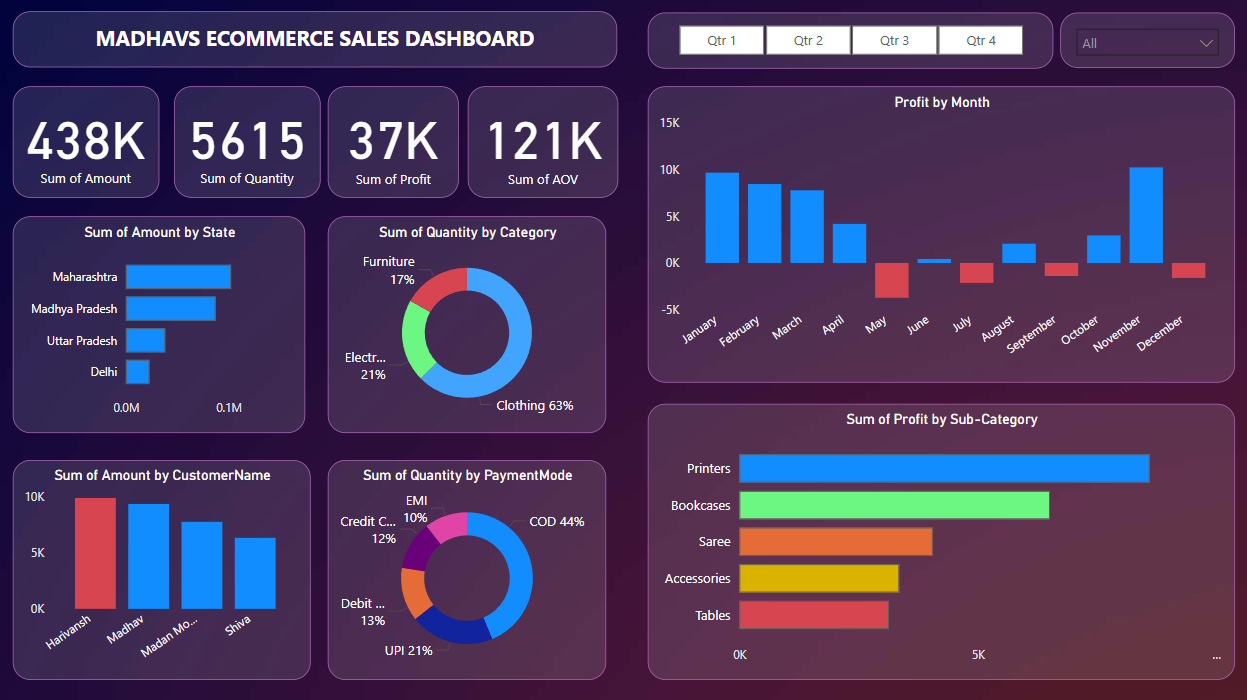

Layout of this report page (visuals, bound fields, positions):
{"tool":"powerbi","page":{"name":"Page 1","canvas":[1280,720],"ordinal":0},"visuals":[{"type":"textbox","box":[14.4,11.1,620,57.8],"z":0},{"type":"columnChart","title":"Profit by Month","fields":{"Category":["Orders.Order Date.Variation.Date Hierarchy.Month"],"Y":["Details.Profit"]},"box":[665,88.3,602.5,304.3],"z":1000},{"type":"barChart","fields":{"Category":["Details.Sub-Category"],"Y":["Details.Profit"]},"box":[665.6,414.4,602.2,283.3],"z":2000},{"type":"donutChart","fields":{"Category":["Details.Category"],"Y":["Details.Quantity"]},"box":[337.8,222.2,285.6,222.2],"z":3000},{"type":"donutChart","fields":{"Y":["Details.Quantity"],"Category":["Details.PaymentMode"]},"box":[337.8,472.2,285.6,225.6],"z":4000},{"type":"card","fields":{"Values":["Details.Amount"]},"box":[14.4,88.9,150,114.4],"z":5000},{"type":"card","fields":{"Values":["Details.Quantity"]},"box":[178.9,88.9,150,114.4],"z":6000},{"type":"card","fields":{"Values":["Details.Profit"]},"box":[337.8,88.9,134.4,114.4],"z":7000},{"type":"card","fields":{"Values":["Details.AOV"]},"box":[481.1,88.9,154.4,114.4],"z":8000},{"type":"barChart","fields":{"Category":["Orders.State"],"Y":["Details.Amount"]},"box":[14.4,222.2,300,222.2],"z":9000},{"type":"columnChart","fields":{"Category":["Orders.CustomerName"],"Y":["Details.Amount"]},"box":[14.7,472.4,305.5,225.8],"z":10000},{"type":"slicer","fields":{"Values":["Orders.Order Date.Variation.Date Hierarchy.Quarter"]},"box":[665,12.3,416,57.7],"z":11000},{"type":"slicer","fields":{"Values":["Orders.State"]},"box":[1088.3,12.3,179.1,56.4],"z":12000}]}

Visuals, with their boxes in screenshot pixels (x1, y1, x2, y2), scaled from the page's 1280x720 canvas onto the 1247x700 screenshot:
textbox: box=[14, 11, 618, 67]
"Profit by Month" columnChart: box=[648, 86, 1235, 382]
barChart - Details.Sub-Category x Details.Profit: box=[648, 403, 1235, 678]
donutChart - Details.Category x Details.Quantity: box=[329, 216, 607, 432]
donutChart - Details.Quantity x Details.PaymentMode: box=[329, 459, 607, 678]
card - Details.Amount: box=[14, 86, 160, 198]
card - Details.Quantity: box=[174, 86, 320, 198]
card - Details.Profit: box=[329, 86, 460, 198]
card - Details.AOV: box=[469, 86, 619, 198]
barChart - Orders.State x Details.Amount: box=[14, 216, 306, 432]
columnChart - Orders.CustomerName x Details.Amount: box=[14, 459, 312, 679]
slicer - Orders.Order Date.Variation.Date Hierarchy.Quarter: box=[648, 12, 1053, 68]
slicer - Orders.State: box=[1060, 12, 1235, 67]
